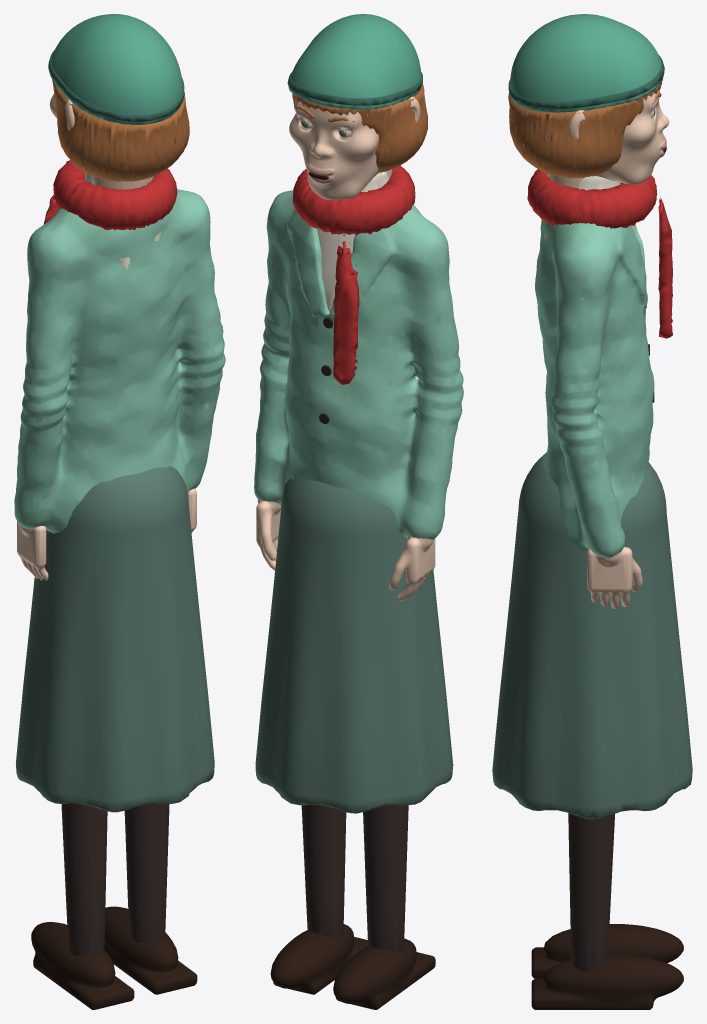
The model's file is rosalind.fbx.
The picture shows the model from 3 angles, left to right: view 1: azimuth 30°, elevation 25°; view 2: azimuth 150°, elevation 25°; view 3: azimuth 270°, elevation 25°; orthographic projection.
Visible parts, largest first — view 1: Body, Hat, Head, HandR; view 2: Body, Hat, Head, HandR, HandL; view 3: Body, Hat, Head, HandL.
Boxes of the visible parts, x1,y1,x2,y2 form: Body: (14,160,225,1009); Hat: (48,14,184,125); Head: (49,80,189,189); HandR: (17,521,48,580); Body: (254,165,463,1009); Hat: (287,14,422,109); Head: (289,85,427,200); HandR: (389,536,435,600); HandL: (256,499,281,570); Body: (492,169,692,1009); Hat: (508,14,664,112); Head: (508,82,669,188); HandL: (587,547,642,608).
Bounding box in the file's own units: 0.3767 × 1.75 × 0.3285.
